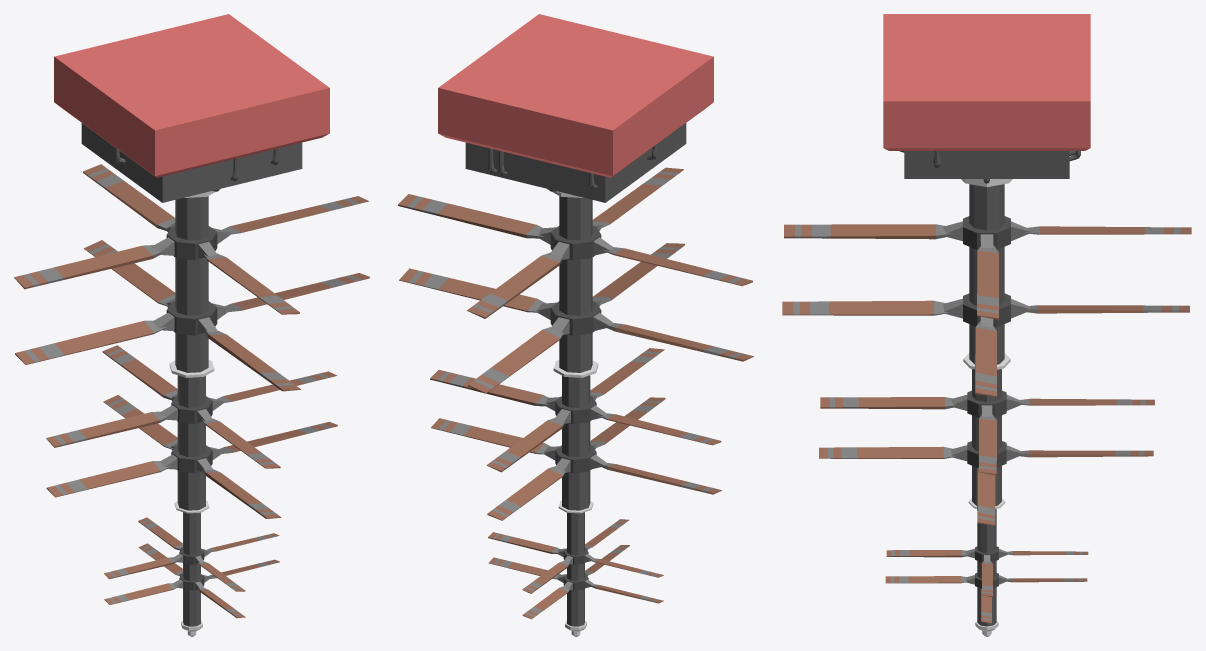
The model's file is Frame 5.fbx.
The picture shows the model from 3 angles, left to right: view 1: azimuth 30°, elevation 25°; view 2: azimuth 150°, elevation 25°; view 3: azimuth 270°, elevation 25°; orthographic projection. The views are drawn at different scales.
Visible parts, largest first — view 1: Cube, Cylinder.001, Cylinder.002, Cylinder.003, Cylinder, Cylinder.004, Cylinder.005; view 2: Cube, Cylinder.001, Cylinder.002, Cylinder.003, Cylinder, Cylinder.004, Cylinder.005; view 3: Cube, Cylinder.001, Cylinder.002, Cylinder.003, Cylinder, Cylinder.004, Cylinder.005.
Boxes of the visible parts, left/top/right/bottom form: Cube: left=54, top=14, right=329, bottom=636; Cylinder.001: left=14, top=164, right=368, bottom=314; Cylinder.002: left=15, top=240, right=369, bottom=391; Cylinder.003: left=46, top=345, right=337, bottom=468; Cylinder: left=46, top=395, right=337, bottom=518; Cylinder.004: left=104, top=517, right=279, bottom=591; Cylinder.005: left=104, top=543, right=279, bottom=618; Cube: left=438, top=14, right=713, bottom=636; Cylinder.001: left=398, top=167, right=752, bottom=318; Cylinder.002: left=399, top=243, right=753, bottom=393; Cylinder.003: left=430, top=348, right=721, bottom=472; Cylinder: left=431, top=397, right=721, bottom=520; Cylinder.004: left=488, top=519, right=663, bottom=593; Cylinder.005: left=488, top=545, right=663, bottom=619; Cube: left=883, top=14, right=1090, bottom=636; Cylinder.001: left=784, top=216, right=1191, bottom=319; Cylinder.002: left=782, top=293, right=1189, bottom=396; Cylinder.003: left=820, top=390, right=1154, bottom=475; Cylinder: left=819, top=441, right=1153, bottom=525; Cylinder.004: left=886, top=546, right=1088, bottom=597; Cylinder.005: left=885, top=573, right=1087, bottom=623.
Bounding box in the file's own units: 1851 × 2898 × 1860.
